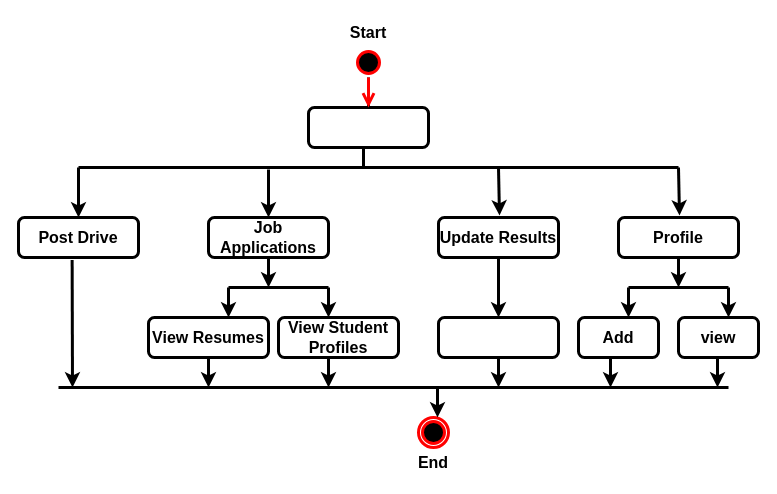
Image size: 777x494. Some labels were removed from this diagram. Each missing label, with the centre of its shape:
"Home Page" belongs at [368,127].
"View Selected Candidates" belongs at [498,337].
